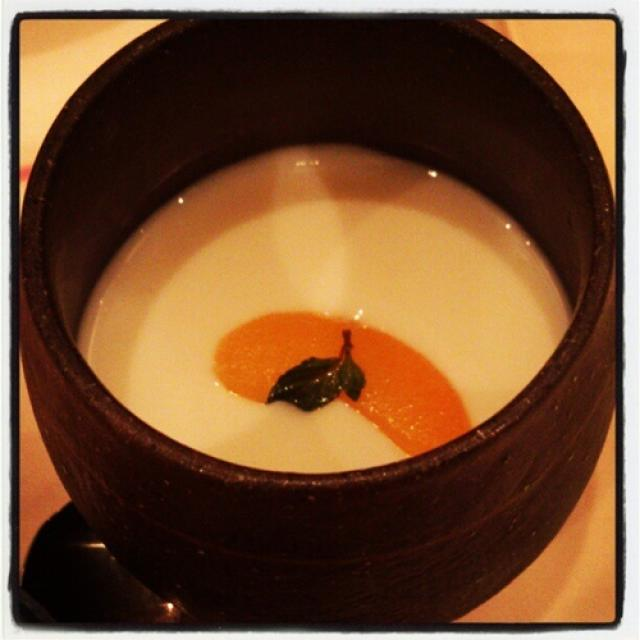面条主食: (10, 76, 640, 530)
